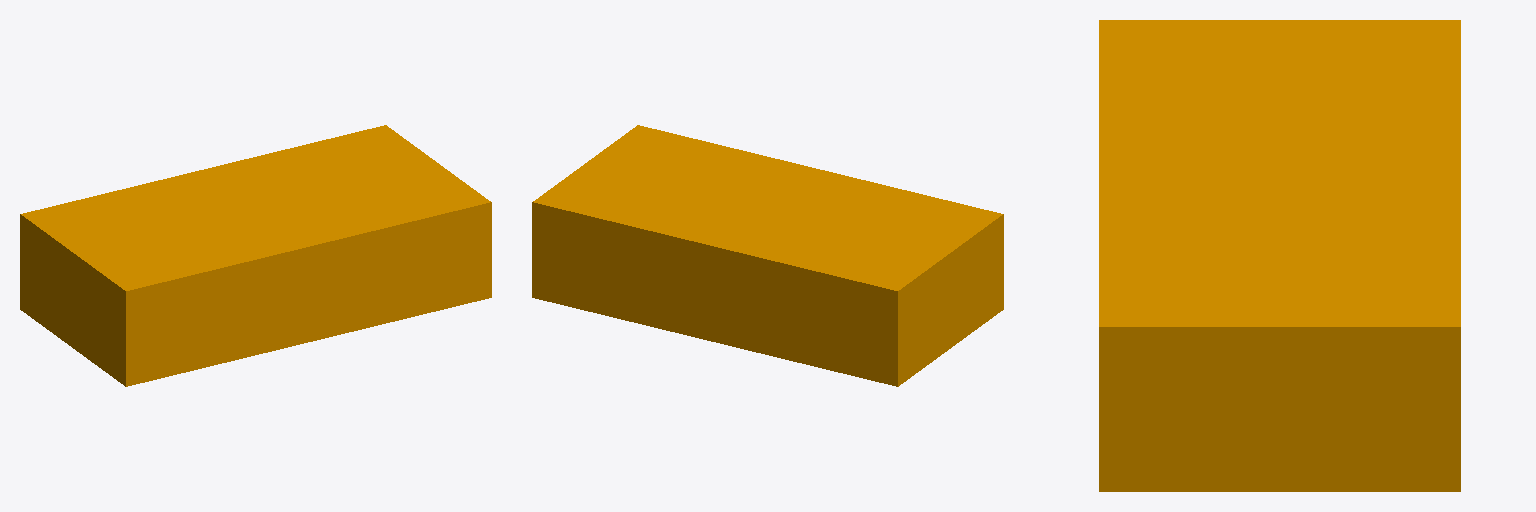
URDF robot description (box_g):
<?xml version="1.0" ?>
<robot name="box_g">
  <link name="box_g">
    <visual>
      <geometry>
        <box size="0.02 0.01 0.005" />
      </geometry>
    </visual>
    <collision>
      <geometry>
        <box size="0.02 0.01 0.005" />
      </geometry>
    </collision>
    <inertial>
      <mass value="0.00875" />
      <inertia ixx="0.000003645833" ixy="0.0" ixz="0.0" iyy="0.000003645833" iyz="0.0" izz="0.000003645833" />
    </inertial>
  </link>
  <gazebo reference="box_g">
    <material>Gazebo/Green</material>
    <kp>1000000</kp>
    <kd>1.0</kd>
    <mu1>10.0</mu1>
    <mu2>10.0</mu2>
    <minDepth>0.001</minDepth>
  </gazebo>
</robot>

--- What the picture shows (computed from the rendered views, not written in the file) ---
The picture shows the robot from 3 angles, left to right: view 1: azimuth 30°, elevation 25°; view 2: azimuth 150°, elevation 25°; view 3: azimuth 270°, elevation 25°; orthographic projection.
Model box_g with 1 links and 0 joints (none), rooted at box_g, posed every joint at zero.
Links seen in each view (by area): view 1: box_g; view 2: box_g; view 3: box_g.
Boxes of the visible links, x1,y1,x2,y2 form: box_g: [20, 125, 491, 386]; box_g: [532, 125, 1003, 386]; box_g: [1099, 20, 1460, 491].
Size in the robot's own frame: 0.02 by 0.01 by 0.005 metres.
Geometry: primitives only (box / cylinder / sphere), no mesh files.